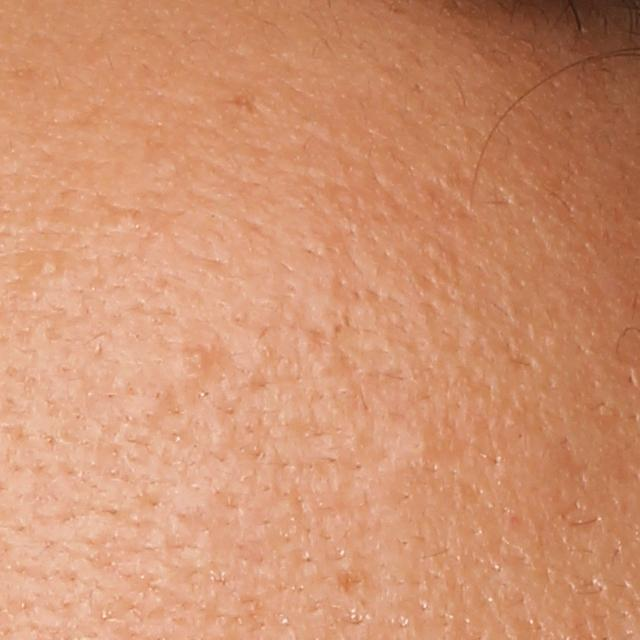comedo: (175, 339, 217, 382), (31, 246, 62, 280)
